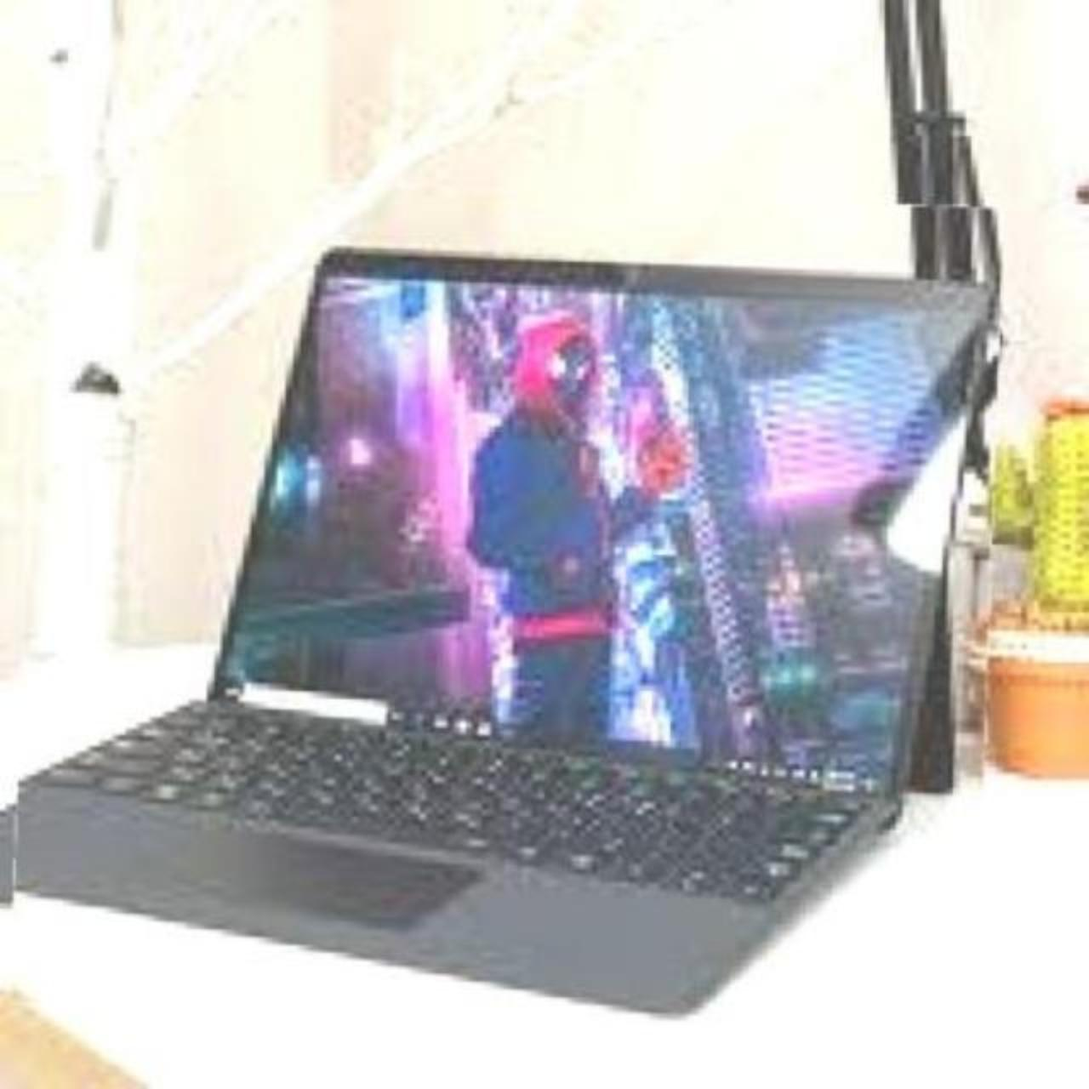laptop: (18, 184, 996, 1028)
